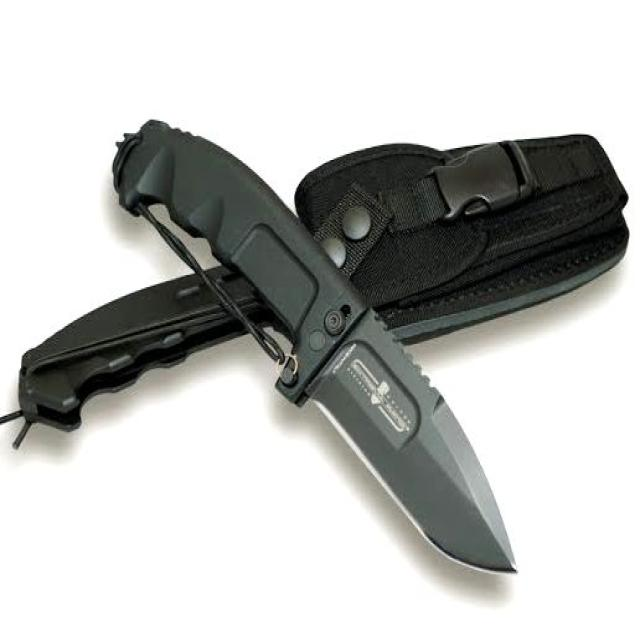knife: (105, 112, 532, 594)
